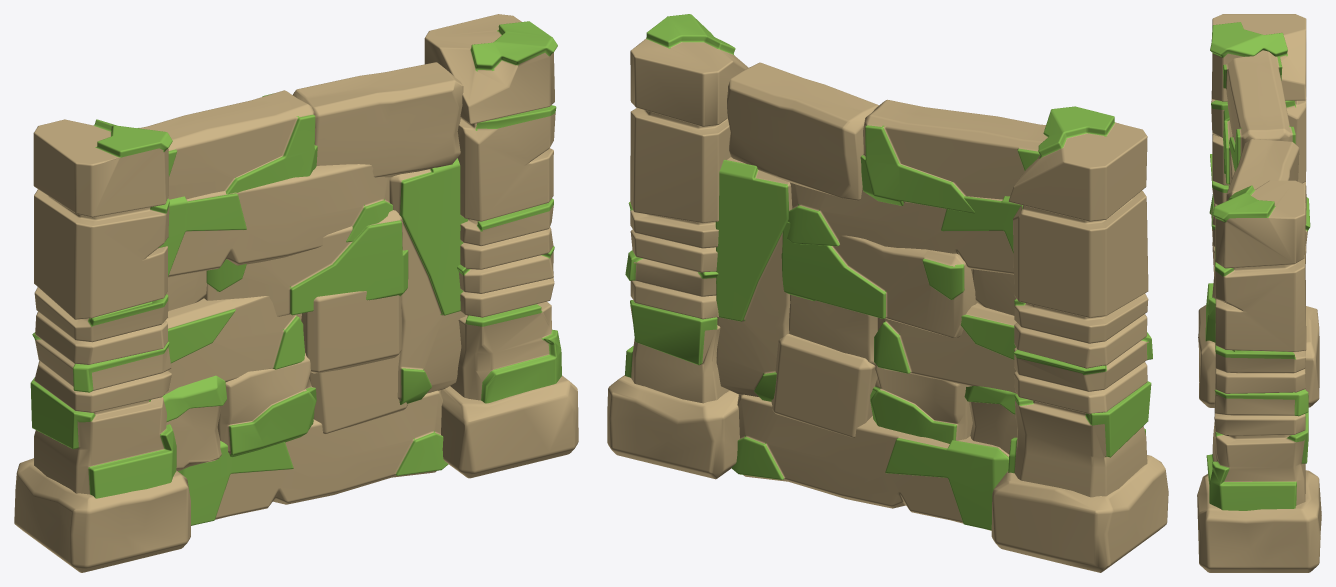
The model's file is Tile_Wall.fbx.
3 views of the same model, side by side, from view 1: azimuth 30°, elevation 25°; view 2: azimuth 150°, elevation 25°; view 3: azimuth 270°, elevation 25° (orthographic). The views are drawn at different scales.
Visible parts, largest first — view 1: Cube.039; view 2: Cube.039; view 3: Cube.039.
Boxes of the visible parts, x1=… form: Cube.039: x1=14, y1=14, x2=578, y2=572; Cube.039: x1=607, y1=14, x2=1168, y2=572; Cube.039: x1=1197, y1=14, x2=1321, y2=572.
Bounding box in the file's own units: 213 × 166 × 51.66.
Materials: 1 (1 with a texture image).
